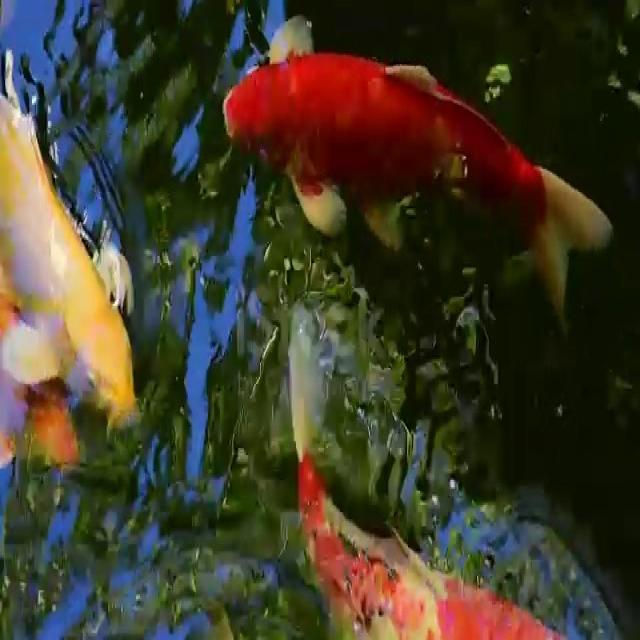fish: (223, 22, 602, 299), (285, 329, 564, 640), (0, 72, 166, 430)
